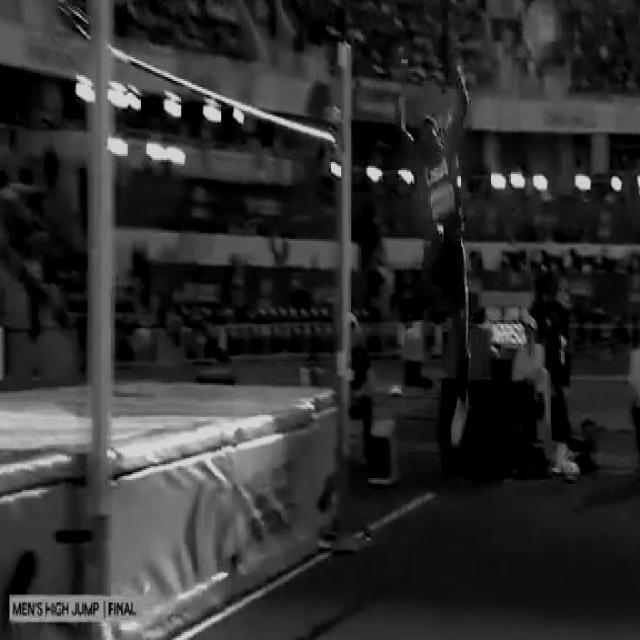land: (401, 60, 470, 446)
